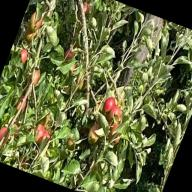Apples: (107, 122, 125, 146), (85, 122, 103, 145), (27, 11, 44, 33), (31, 123, 47, 144), (76, 2, 92, 23), (36, 129, 52, 149), (102, 95, 116, 113), (108, 104, 122, 122), (0, 125, 12, 146), (23, 28, 38, 44), (61, 48, 75, 64), (16, 48, 30, 64), (15, 95, 28, 112), (65, 138, 77, 152)
